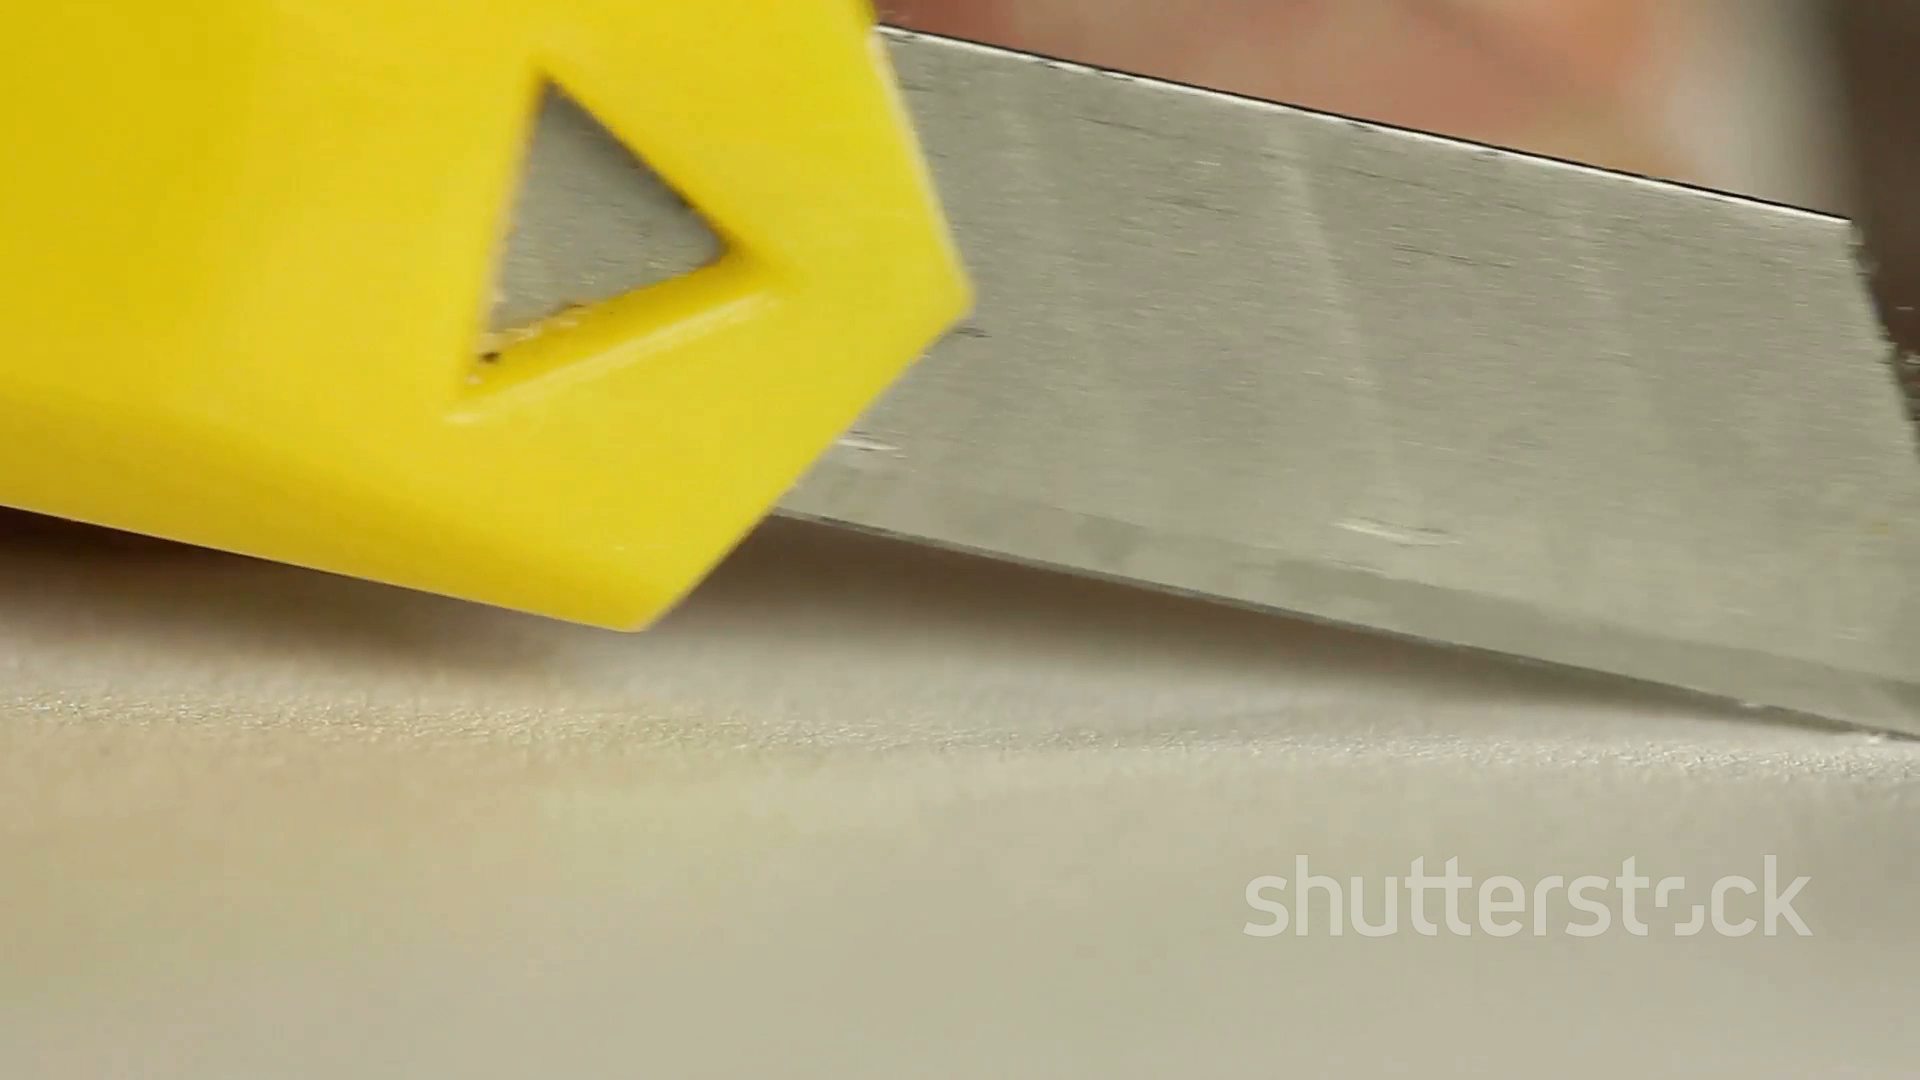cortante: (758, 21, 1920, 745)
